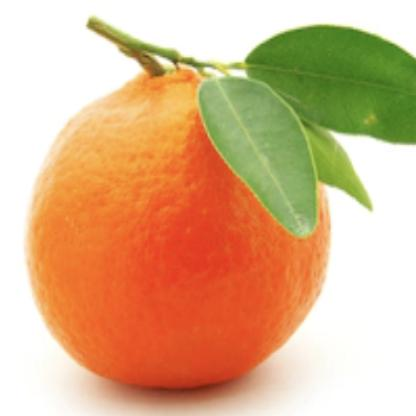fresh: (27, 58, 330, 382)
